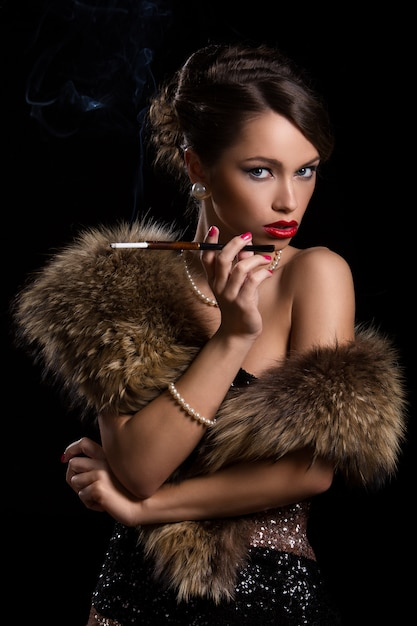cigarette: (107, 240, 150, 249)
